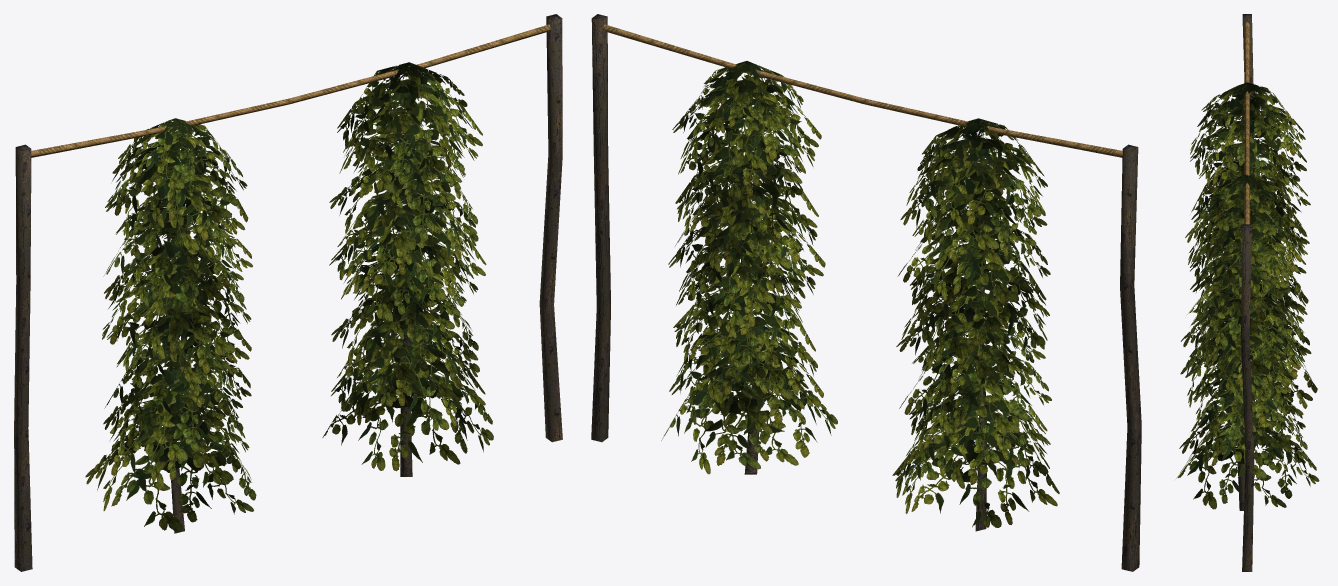
File: KM_VOB_HOP_01.glb
3 views of the same model, side by side, from view 1: azimuth 30°, elevation 25°; view 2: azimuth 150°, elevation 25°; view 3: azimuth 270°, elevation 25° (orthographic). The views are drawn at different scales.
Parts seen in each view (by area): view 1: Mesh; view 2: Mesh; view 3: Mesh.
Boxes of the visible parts, x1,y1,x2,y2 form: Mesh: (14,14,562,571); Mesh: (591,14,1141,571); Mesh: (1176,14,1319,571).
Bounding box in the file's own units: 3.27 × 2.42 × 0.9828.
3 materials, 3 textured.
